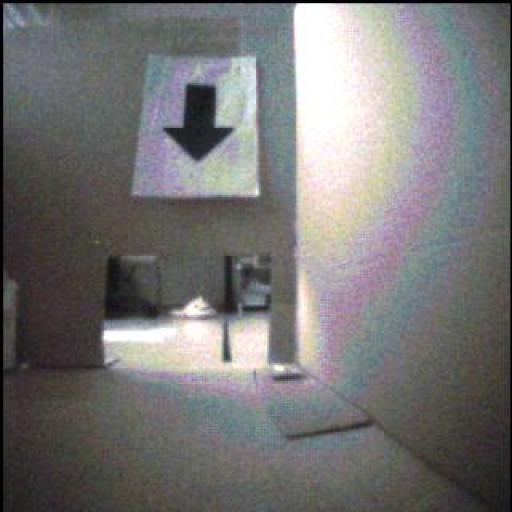arrow: (164, 86, 235, 161)
